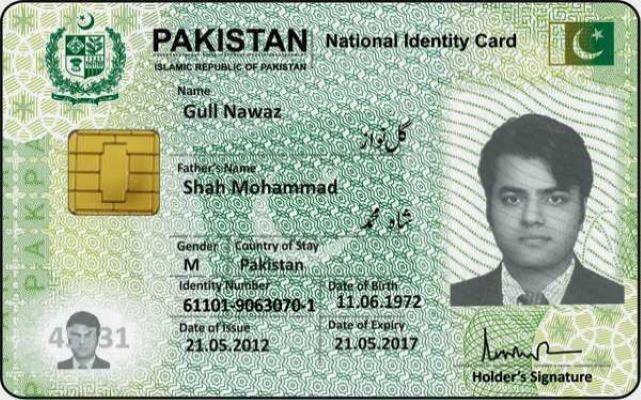fname: (181, 174, 340, 200)
name: (178, 98, 288, 123)
number: (180, 295, 320, 316)
